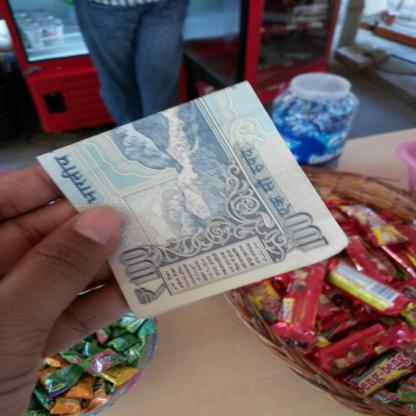Old100Back: (34, 80, 352, 321)
